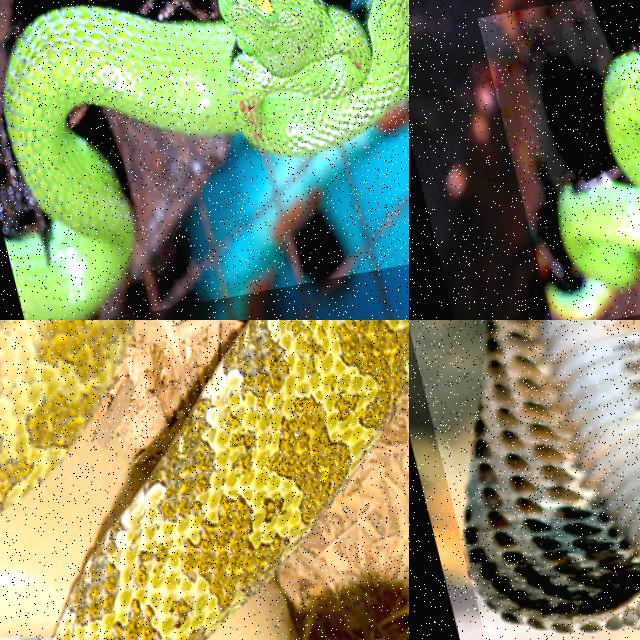Ophiophagus hannah: (465, 320, 639, 632)
Ovophis monticola: (54, 320, 408, 639)
Trimeresurus macrops: (5, 0, 408, 319), (547, 51, 639, 319)
snake: (5, 0, 408, 319), (54, 320, 408, 639), (465, 320, 639, 632), (547, 51, 639, 319)
